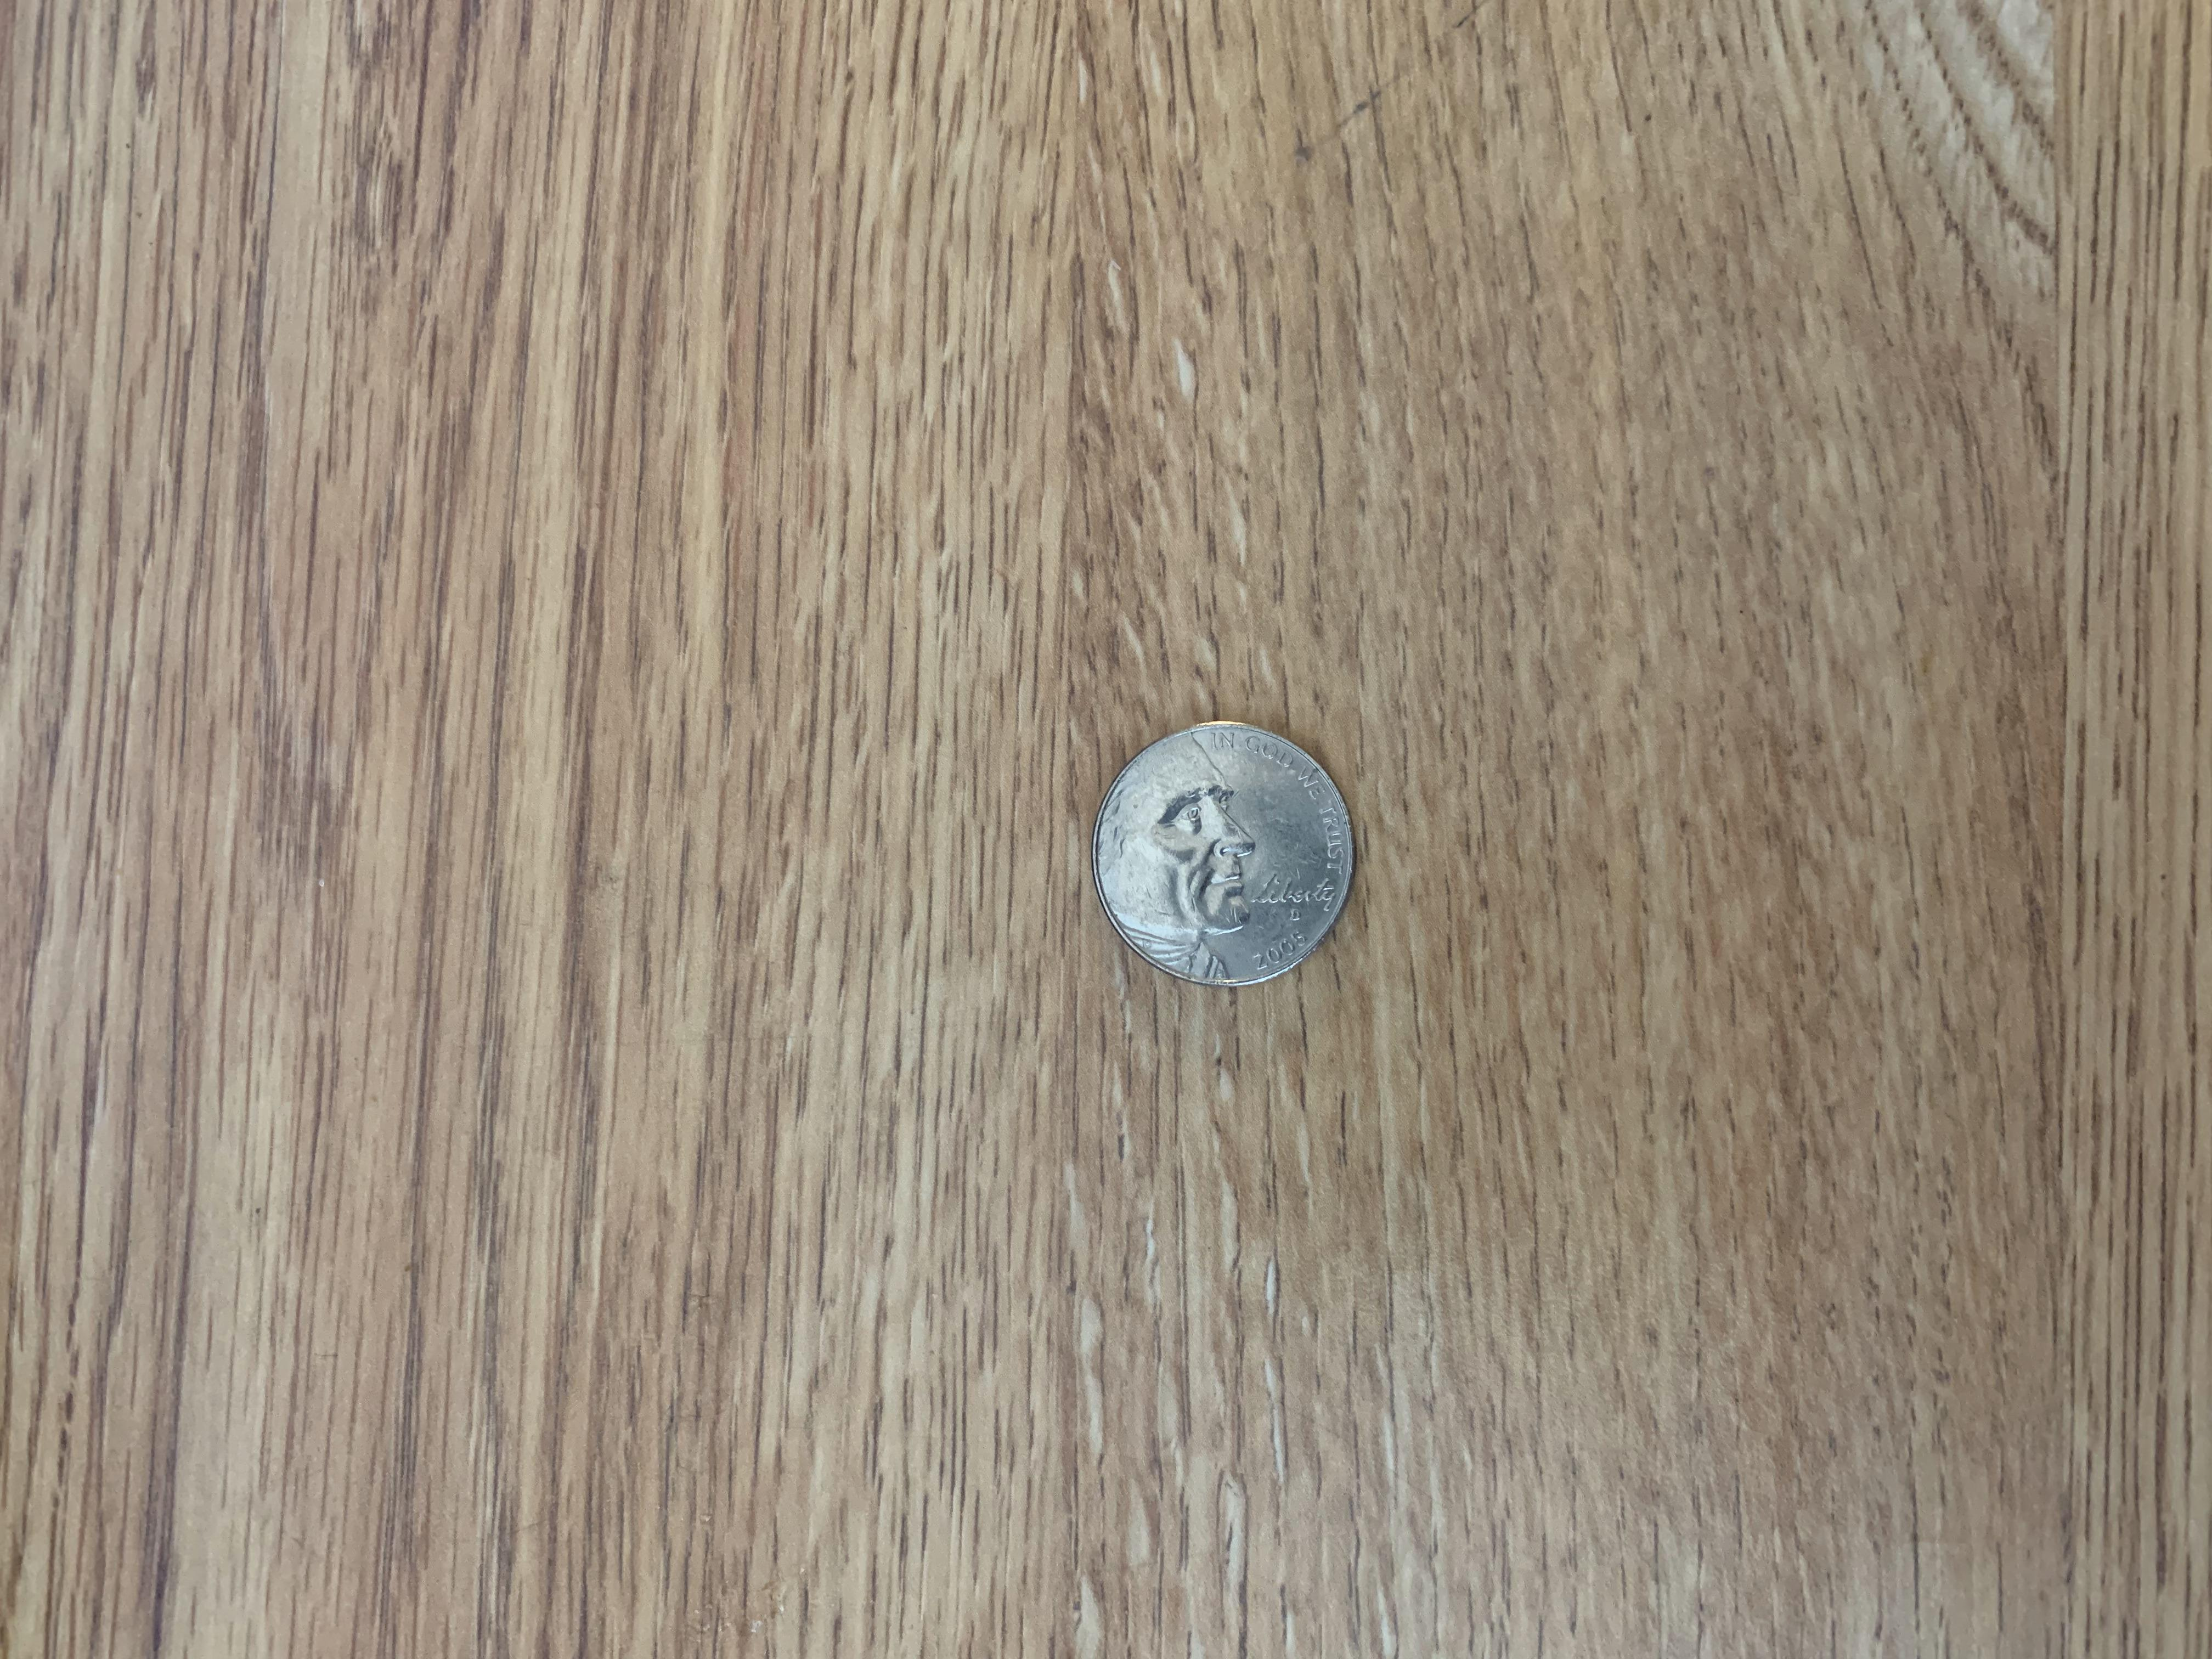Nickel: (1082, 716, 1366, 993)
